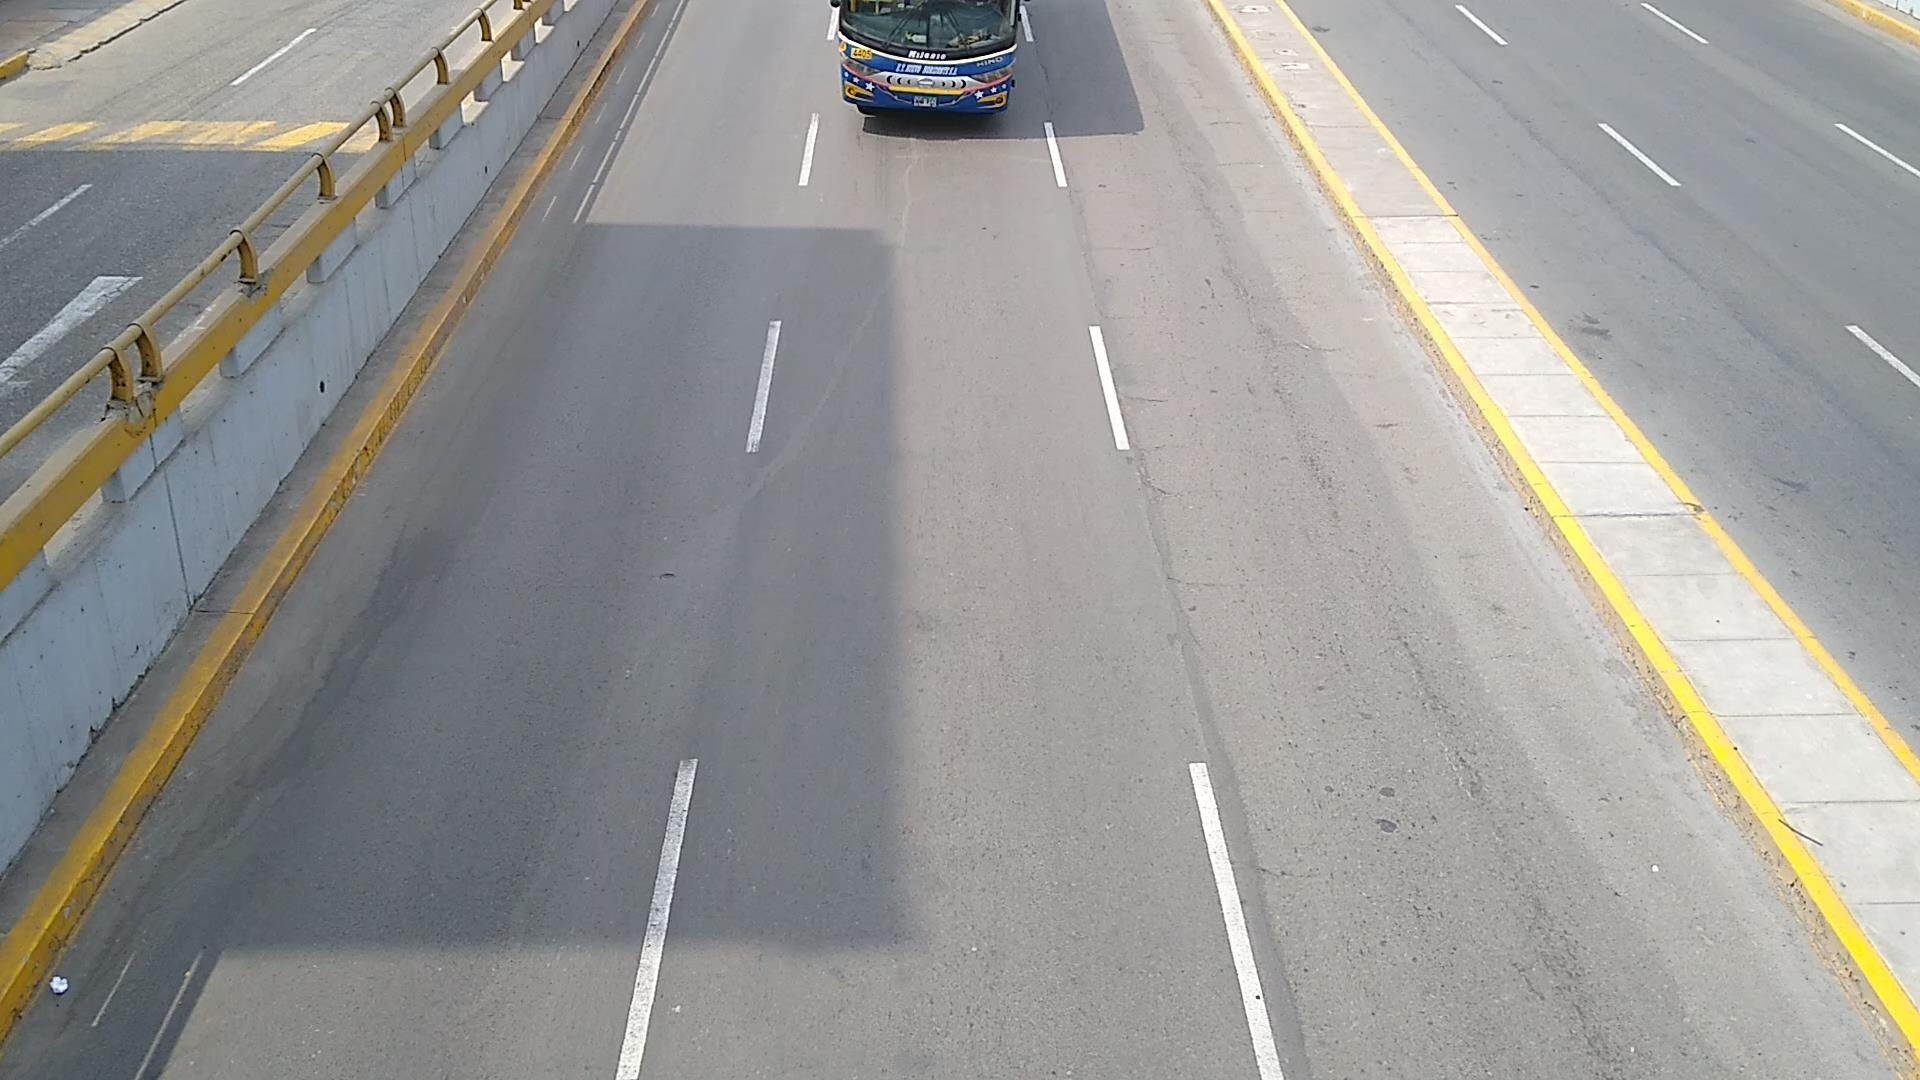car: (0, 0, 480, 430)
